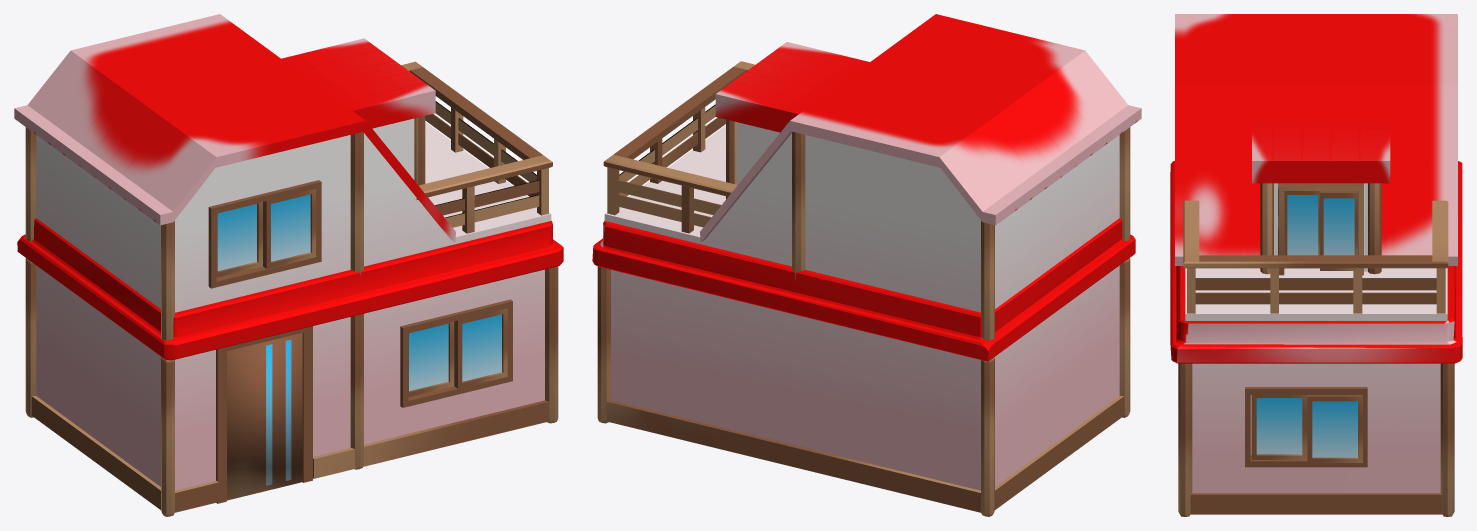
The model's file is house6.fbx.
3 renders of one model, left to right at view 1: azimuth 30°, elevation 25°; view 2: azimuth 150°, elevation 25°; view 3: azimuth 270°, elevation 25°, orthographic. The views are drawn at different scales.
Parts seen in each view (by area): view 1: house6, toitrouge.001, porterouge.001, minitoit.001, Cube.011, Cube.016, Cube.012, Cube.021; view 2: house6, toitrouge.001, minitoit.001; view 3: house6, toitrouge.001, minitoit.001, Cube.022, Cube.023, Cube.025, Cube.024.
Boxes of the visible parts, <box> form: house6: <box>17,61,563,516</box>; toitrouge.001: <box>14,14,455,241</box>; porterouge.001: <box>227,333,302,500</box>; minitoit.001: <box>281,38,435,128</box>; Cube.011: <box>454,308,507,388</box>; Cube.016: <box>263,189,316,268</box>; Cube.012: <box>408,321,454,397</box>; Cube.021: <box>216,202,262,277</box>; house6: <box>592,61,1135,516</box>; toitrouge.001: <box>700,14,1141,242</box>; minitoit.001: <box>715,42,869,132</box>; house6: <box>1170,161,1462,516</box>; toitrouge.001: <box>1175,14,1457,265</box>; minitoit.001: <box>1252,117,1390,183</box>; Cube.022: <box>1307,395,1362,462</box>; Cube.023: <box>1251,395,1307,459</box>; Cube.025: <box>1320,191,1357,270</box>; Cube.024: <box>1284,191,1319,255</box>.
Size of the model in its own units: 522 by 433 by 337.
1 material, 1 textured.
